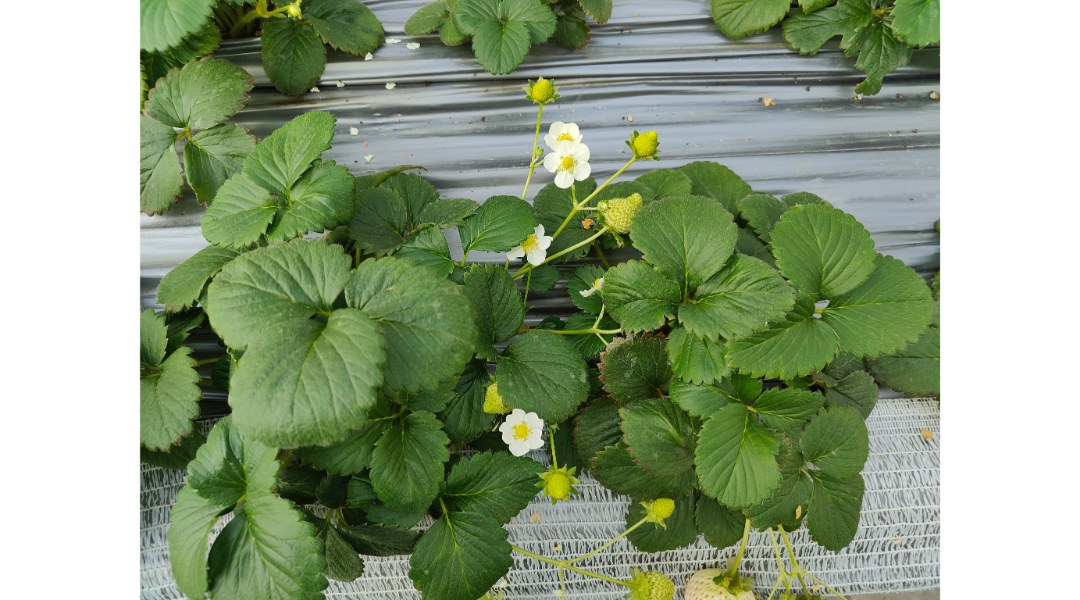berry: (675, 555, 756, 600), (596, 194, 649, 239), (621, 560, 680, 600), (631, 498, 682, 532), (543, 460, 574, 515), (627, 125, 670, 163), (522, 73, 561, 102)
flower: (491, 402, 549, 458), (548, 139, 595, 182), (508, 221, 551, 268), (546, 118, 582, 155)
strain: (573, 517, 640, 564), (516, 107, 542, 206), (580, 156, 632, 202), (559, 230, 606, 261), (529, 317, 584, 341), (511, 544, 557, 561), (577, 568, 611, 585), (548, 424, 560, 471), (556, 209, 572, 240), (597, 319, 626, 335), (591, 305, 607, 325), (556, 571, 567, 600)
